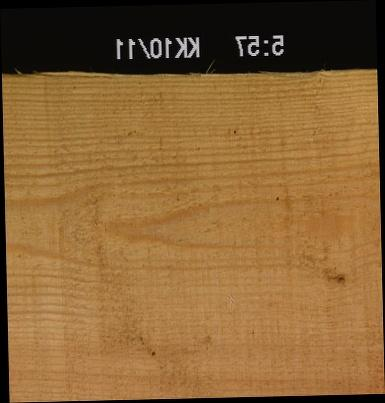small_knot: (335, 272, 347, 285)
